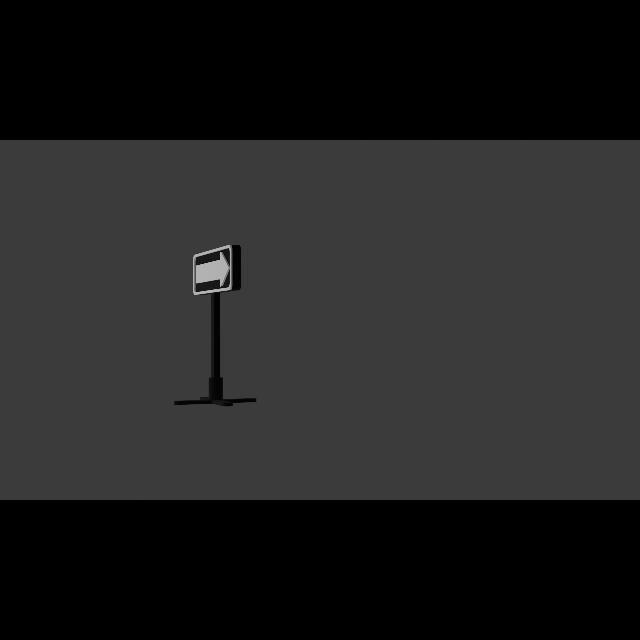sign_oneway_right: (193, 244, 238, 297)
